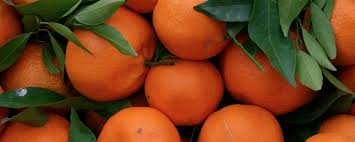orange: (223, 24, 325, 116), (63, 10, 151, 101), (139, 49, 228, 124)
